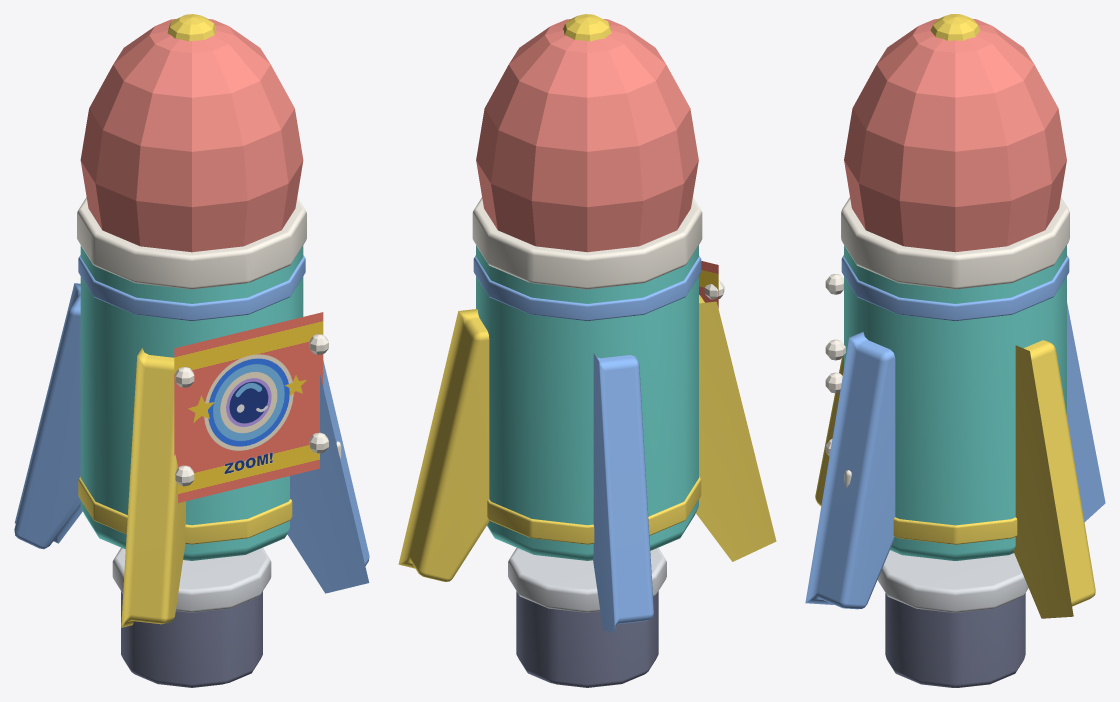
File: asset.glb
3 views of the same model, side by side, from view 1: azimuth 30°, elevation 25°; view 2: azimuth 150°, elevation 25°; view 3: azimuth 270°, elevation 25° (orthographic).
Visible parts, largest first — view 1: Rounded nose cap, Rocket body, Painted ZOOM porthole badge, Fin 3, Fin 2, Nozzle collar, Fin 4, Cream shoulder ring, Nozzle lip, Upper blue accent band, Lower yellow accent band, Nose tip button; view 2: Rocket body, Rounded nose cap, Fin 1, Fin 2, Fin 3, Nozzle collar, Cream shoulder ring, Nozzle lip, Upper blue accent band, Lower yellow accent band, Nose tip button, Painted ZOOM porthole badge; view 3: Rounded nose cap, Rocket body, Fin 4, Fin 1, Nozzle collar, Cream shoulder ring, Nozzle lip, Upper blue accent band, Fin 2, Lower yellow accent band, Nose tip button, Fin 3.
Boxes of the visible parts, x1,y1,x2,y2 form: Rounded nose cap: (80,19,303,252); Rocket body: (80,245,303,560); Painted ZOOM porthole badge: (174,312,323,502); Fin 3: (121,348,185,627); Fin 2: (14,283,82,549); Nozzle collar: (121,591,262,687); Fin 4: (287,360,369,593); Cream shoulder ring: (77,197,306,289); Nozzle lip: (112,547,271,612); Upper blue accent band: (78,255,305,320); Lower yellow accent band: (78,476,292,544); Nose tip button: (167,14,216,41); Rocket body: (476,245,698,560); Rounded nose cap: (476,19,698,252); Fin 1: (398,309,489,581); Fin 2: (593,353,653,632); Fin 3: (696,295,776,561); Nozzle collar: (516,591,658,687); Cream shoulder ring: (472,197,702,289); Nozzle lip: (508,548,666,612); Upper blue accent band: (473,255,701,320); Lower yellow accent band: (487,477,701,544); Nose tip button: (563,14,611,41); Painted ZOOM porthole badge: (699,261,718,308); Rounded nose cap: (844,19,1066,252); Rocket body: (844,245,1066,560); Fin 4: (805,332,895,609); Fin 1: (1013,340,1095,618); Nozzle collar: (885,593,1025,687); Cream shoulder ring: (841,197,1069,289); Nozzle lip: (877,550,1028,612); Upper blue accent band: (841,255,1069,321); Fin 2: (1067,303,1105,522); Lower yellow accent band: (893,517,1017,544); Nose tip button: (930,14,980,40); Fin 3: (815,355,843,506).
Size of the model in its own units: 0.2532 by 0.61 by 0.2532.
Materials: 8 (1 with a texture image).
